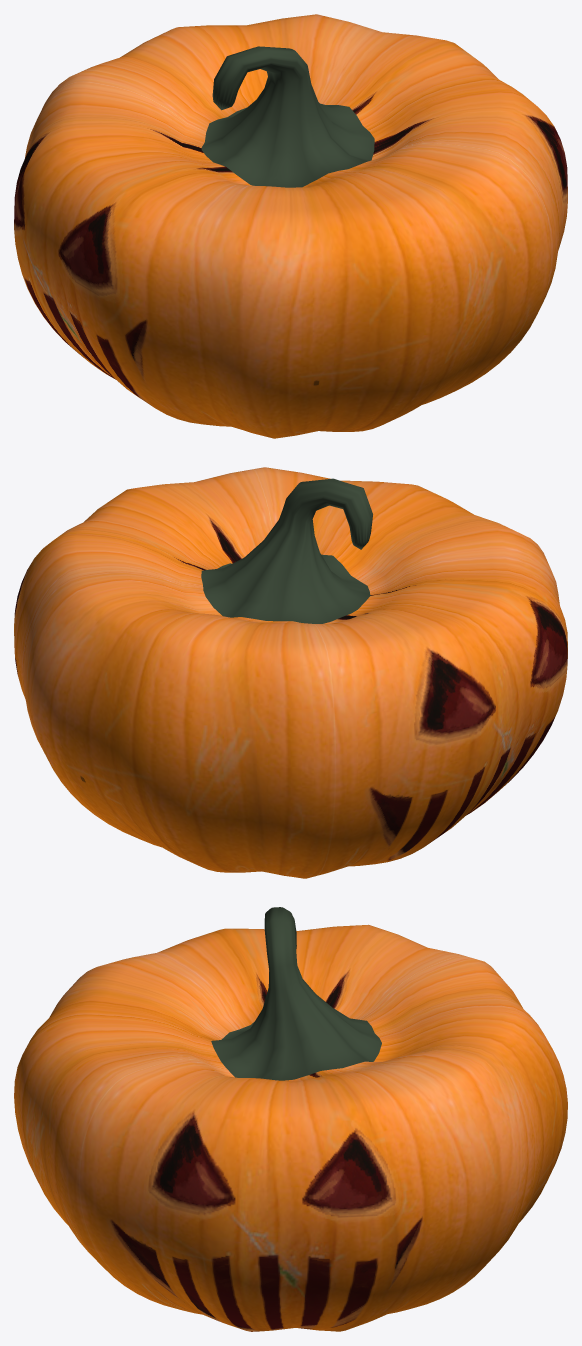
File: PUMPKIN_1.fbx
3 renders of one model, top to bottom at view 1: azimuth 30°, elevation 25°; view 2: azimuth 150°, elevation 25°; view 3: azimuth 270°, elevation 25°, orthographic. The views are drawn at different scales.
Parts seen in each view (by area): view 1: pSphere1; view 2: pSphere1; view 3: pSphere1.
Part boxes in pixels (x1,y1,x2,y2): pSphere1: (14, 14, 567, 438); pSphere1: (14, 467, 567, 878); pSphere1: (14, 907, 567, 1331).
Size of the model in its own units: 1.14 by 0.8491 by 1.17.
Materials: 2 (1 with a texture image).
